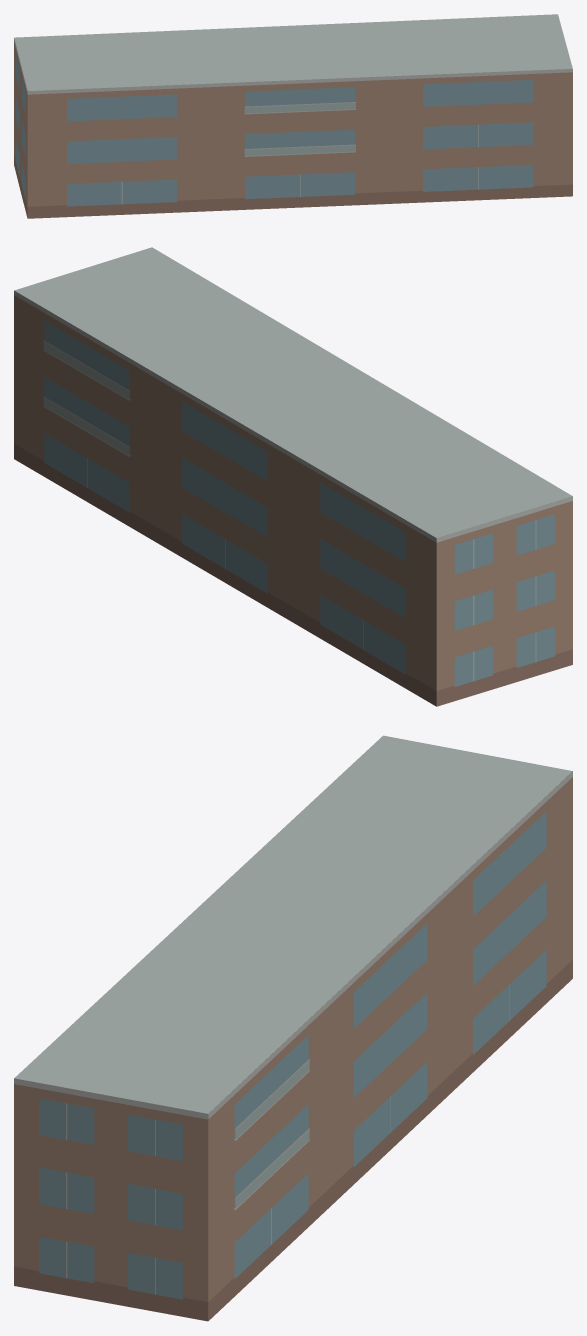
Rendered from survey-upis-32527742.glb.
3 renders of one model, top to bottom at view 1: azimuth 30°, elevation 25°; view 2: azimuth 150°, elevation 25°; view 3: azimuth 270°, elevation 25°, orthographic. The views are drawn at different scales.
Parts seen in each view (by area): view 1: survey-upis-32527742.tmp; view 2: survey-upis-32527742.tmp; view 3: survey-upis-32527742.tmp.
Boxes of the visible parts, box(x1,y1,x2,y2) form: survey-upis-32527742.tmp: box(14, 14, 572, 218); survey-upis-32527742.tmp: box(14, 247, 572, 706); survey-upis-32527742.tmp: box(14, 735, 572, 1321).
Size of the model in its own units: 34.61 by 8.85 by 21.6.
